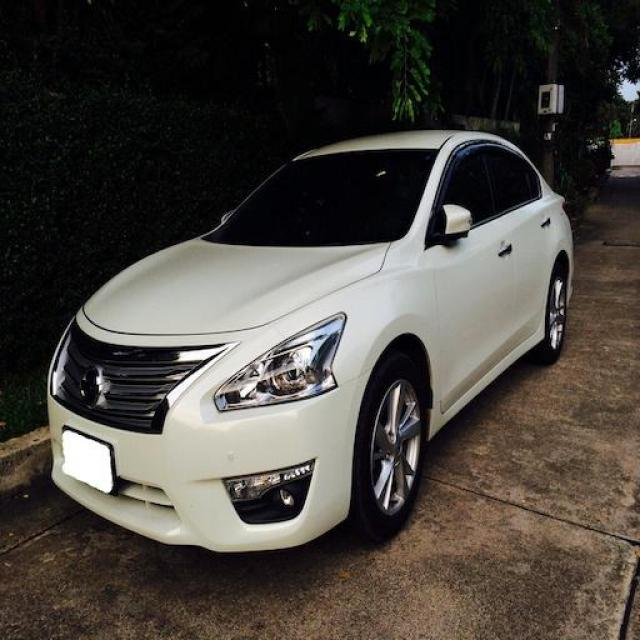back_left_door: (483, 138, 555, 356)
front_bumper: (47, 306, 371, 552)
front_glass: (202, 147, 440, 247)
front_left_door: (428, 135, 520, 413)
front_left_light: (213, 312, 349, 412)
hood: (86, 238, 391, 334)
left_mirror: (438, 204, 473, 242)
wheel: (357, 359, 428, 529), (545, 262, 569, 356)
